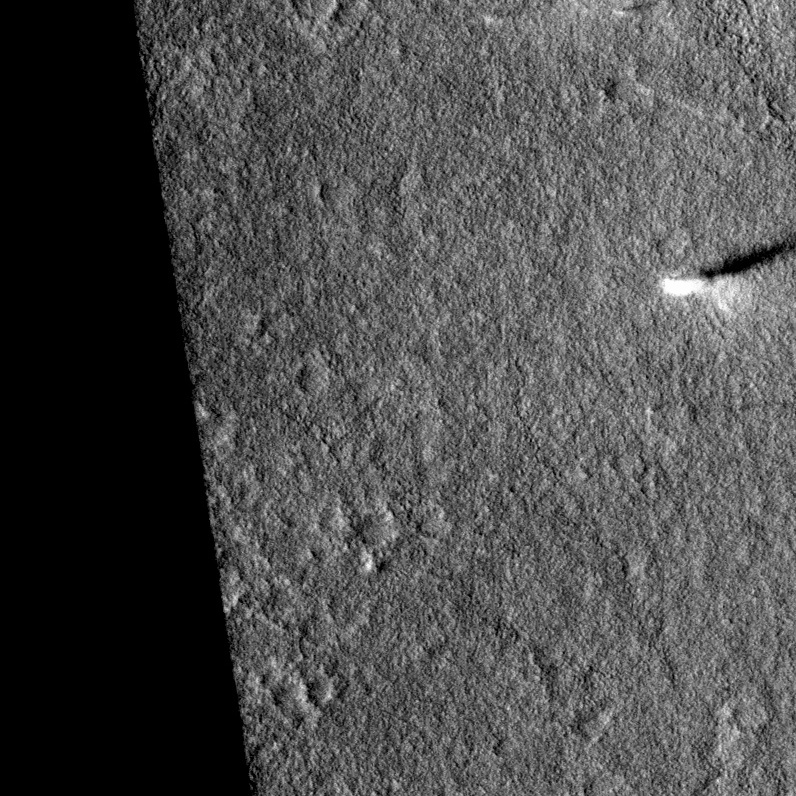dust_devil: (658, 232, 796, 315), (480, 4, 528, 25), (610, 1, 662, 18)
